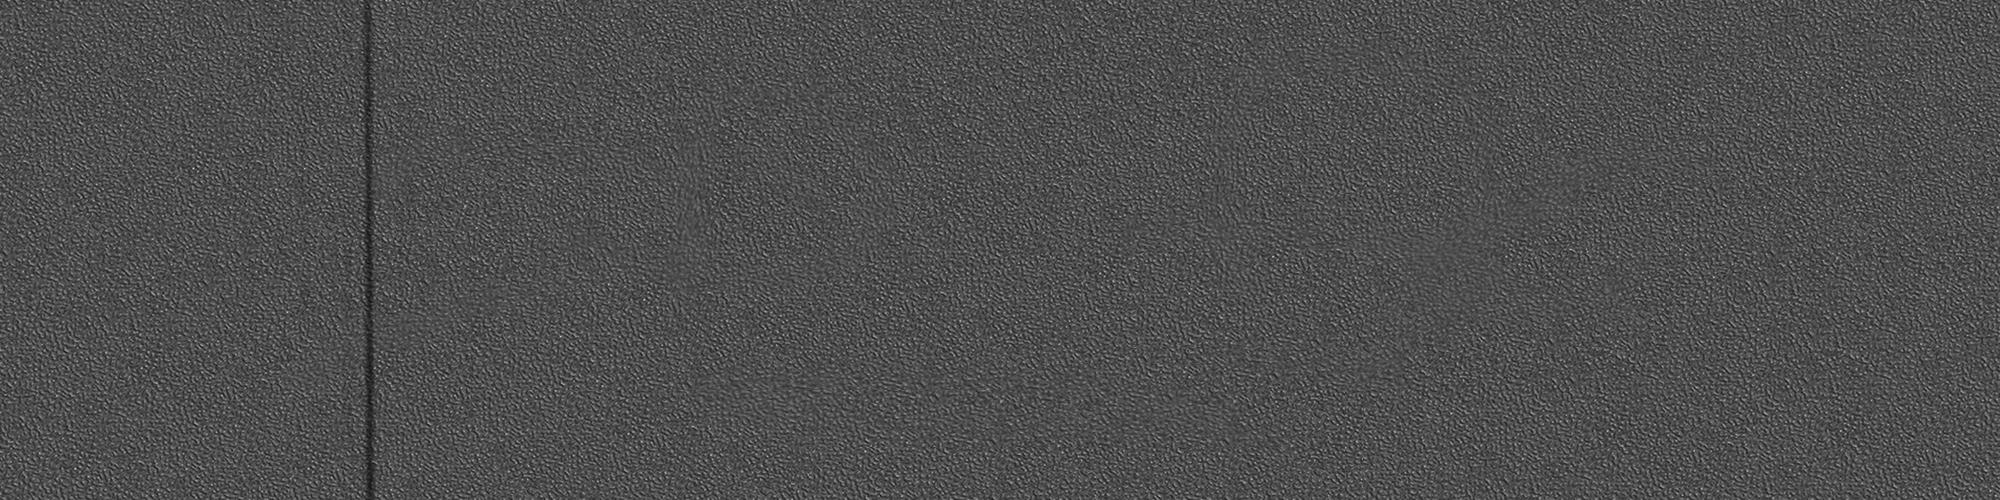DieDrag: (339, 1, 395, 500)
